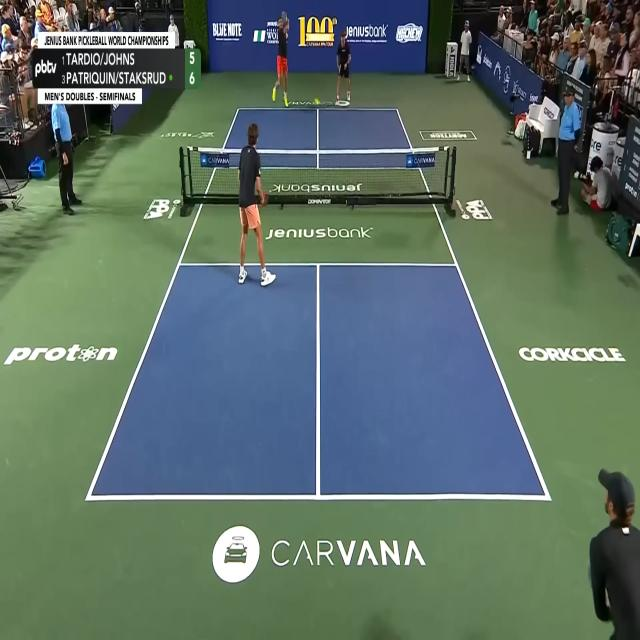ball: (315, 98, 320, 104)
